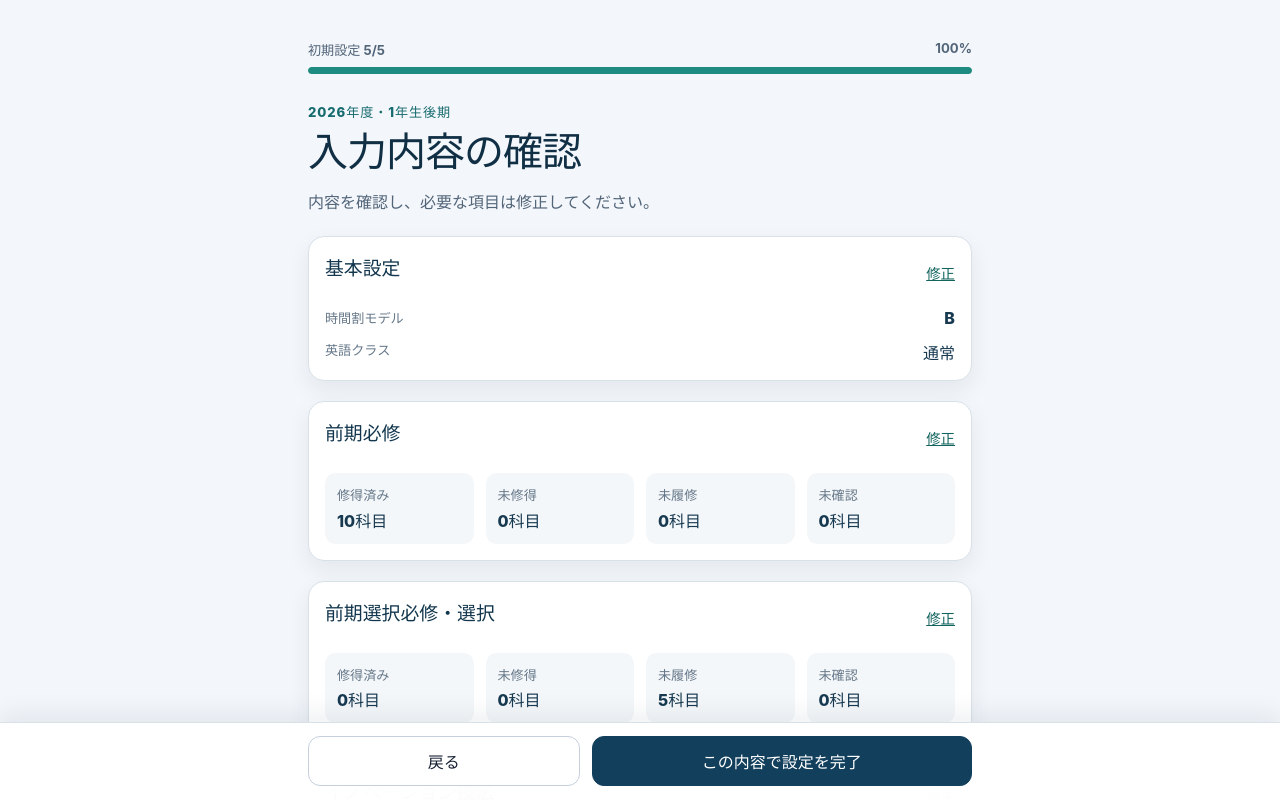
Test: SetupReviewPage › 完了ボタンを押した場合だけsetupCompleted=trueにする
The image size is (1280, 800).
Click the button "この内容で設定を完了": point(782, 761) [592,736,972,786]
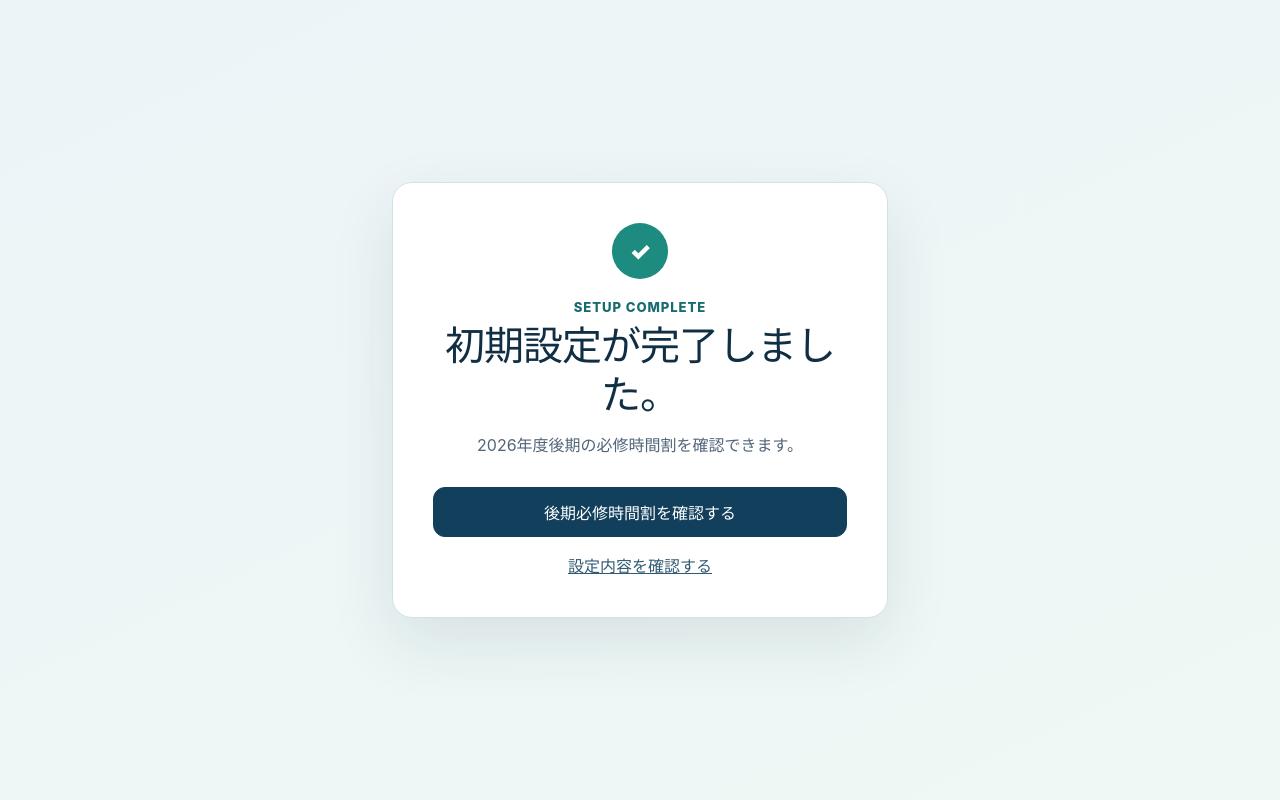
Check: the heading "初期設定が完了しました。" is shown, box [433,322,847,420]
